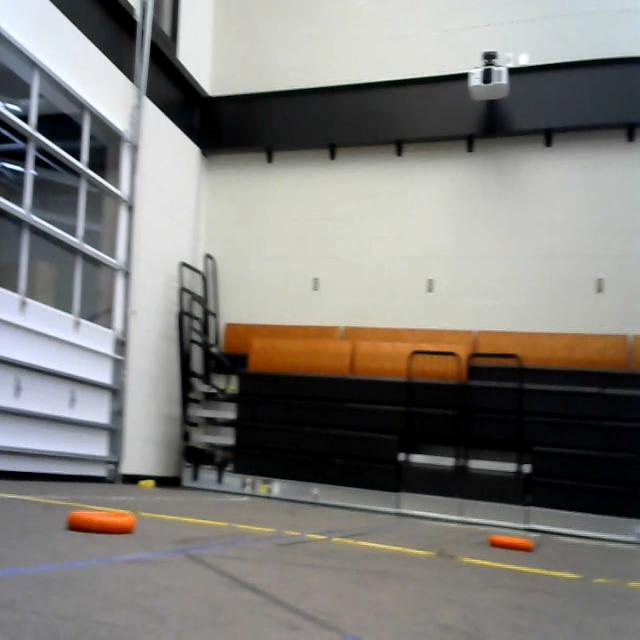note: (62, 504, 141, 541), (486, 526, 536, 560)
